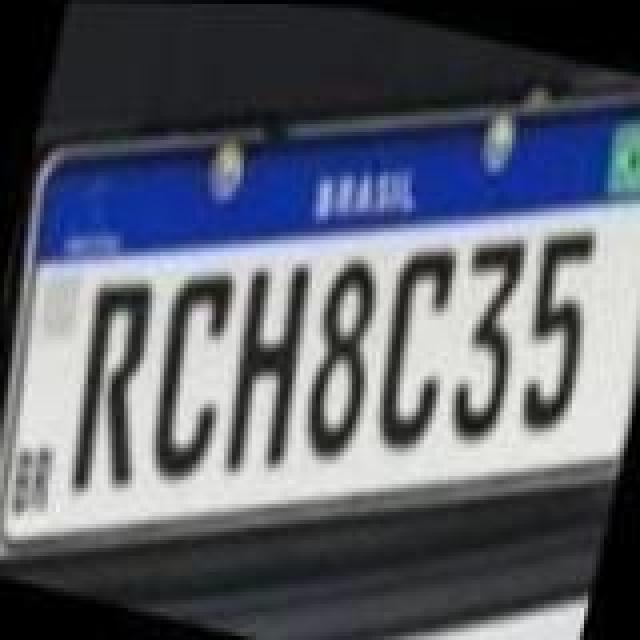3: (426, 222, 542, 450)
5: (494, 212, 610, 440)
8: (280, 246, 396, 466)
C: (130, 260, 250, 488), (356, 230, 476, 458)
H: (198, 242, 326, 482)
R: (46, 262, 174, 510)
